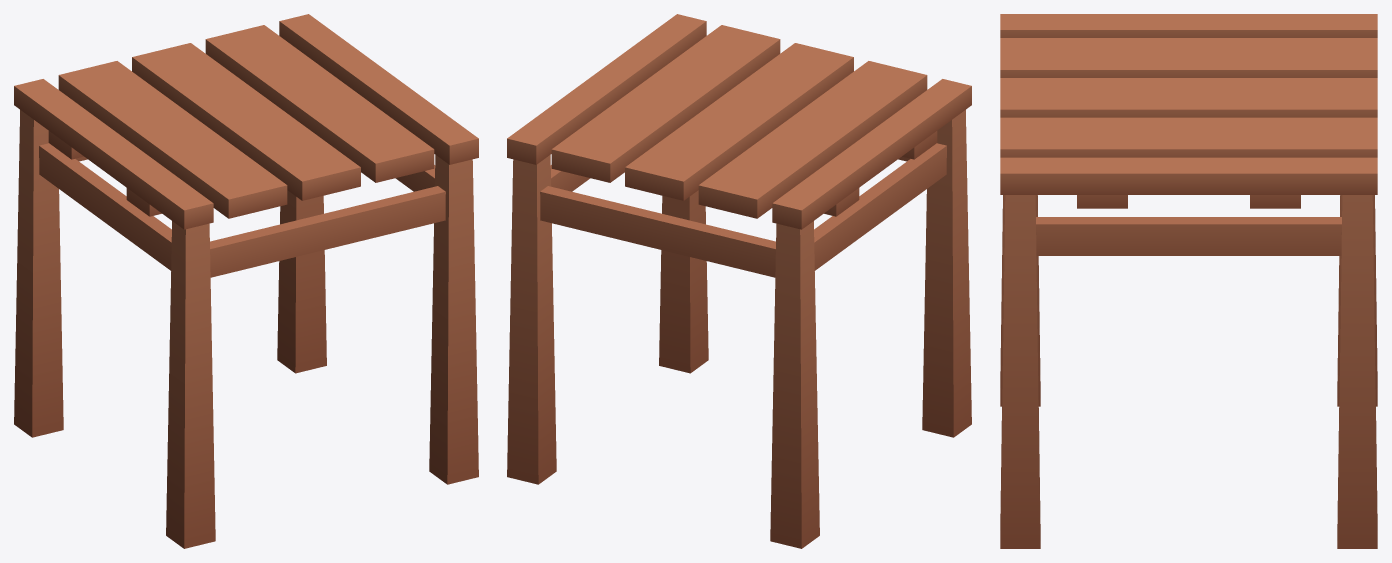
Rendered from structure-floor.glb.
3 renders of one model, left to right at view 1: azimuth 30°, elevation 25°; view 2: azimuth 150°, elevation 25°; view 3: azimuth 270°, elevation 25°, orthographic. The views are drawn at different scales.
Visible parts, largest first — view 1: structure-floor, Group; view 2: structure-floor, Group; view 3: Group, structure-floor.
Part boxes in pixels (x1,y1,x2,y2): structure-floor: (14,110,478,548); Group: (14,14,478,229); structure-floor: (507,110,971,548); Group: (507,14,971,229); Group: (1000,14,1377,208); structure-floor: (1000,195,1377,548).
Bounding box in the file's own units: 0.5 × 0.5487 × 0.5.
